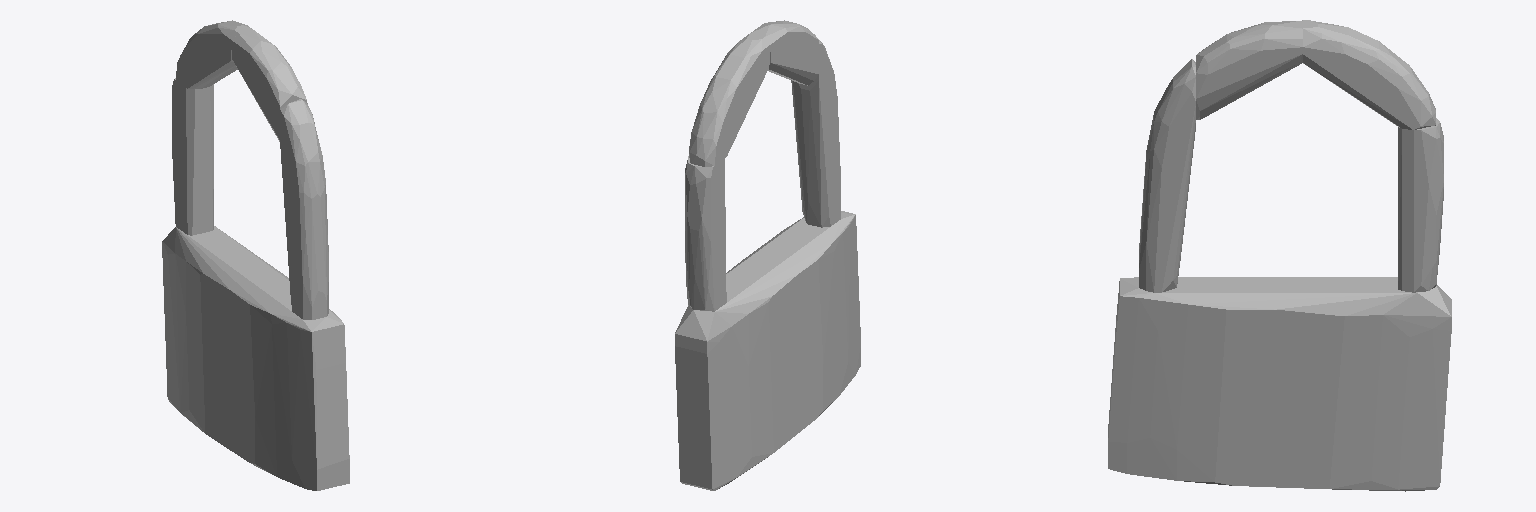
The robot description file, URDF, robot "root":
<robot name="root">
  <link name="link_2b72c65f9f4ab89c9c844474c1ecd7e3_convex_piece_0">
    <inertial>
      <origin rpy="0 0 0" xyz="0 0 0"/>
      <mass value="6.61E-06"/>
      <inertia ixx="9.26E-10" ixy="-1.40E-13" ixz="4.04E-13" iyy="7.47E-11" iyz="2.97E-10" izz="9.35E-10"/>
    </inertial>
    <visual>
      <origin rpy="0 0 0" xyz="0 0 0"/>
      <geometry>
        <mesh filename="2b72c65f9f4ab89c9c844474c1ecd7e3_convex_piece_0.obj" scale="1.0000E+00"/>
      </geometry>
      <material name="">
        <color rgba="7.50E-01 7.50E-01 7.50E-01 1"/>
      </material>
    </visual>
    <collision>
      <origin rpy="0 0 0" xyz="0 0 0"/>
      <geometry>
        <mesh filename="2b72c65f9f4ab89c9c844474c1ecd7e3_convex_piece_0.obj" scale="1.0000E+00"/>
      </geometry>
    </collision>
  </link>
  <link name="link_2b72c65f9f4ab89c9c844474c1ecd7e3_convex_piece_1">
    <inertial>
      <origin rpy="0 0 0" xyz="0 0 0"/>
      <mass value="5.00E-07"/>
      <inertia ixx="-4.62E-12" ixy="-1.12E-12" ixz="8.42E-13" iyy="-1.10E-10" iyz="-4.70E-11" izz="1.08E-10"/>
    </inertial>
    <visual>
      <origin rpy="0 0 0" xyz="0 0 0"/>
      <geometry>
        <mesh filename="2b72c65f9f4ab89c9c844474c1ecd7e3_convex_piece_1.obj" scale="1.0000E+00"/>
      </geometry>
      <material name="">
        <color rgba="7.50E-01 7.50E-01 7.50E-01 1"/>
      </material>
    </visual>
    <collision>
      <origin rpy="0 0 0" xyz="0 0 0"/>
      <geometry>
        <mesh filename="2b72c65f9f4ab89c9c844474c1ecd7e3_convex_piece_1.obj" scale="1.0000E+00"/>
      </geometry>
    </collision>
  </link>
  <joint name="link_2b72c65f9f4ab89c9c844474c1ecd7e3_convex_piece_1_joint" type="fixed">
    <origin rpy="0 0 0" xyz="0 0 0"/>
    <parent link="link_2b72c65f9f4ab89c9c844474c1ecd7e3_convex_piece_0"/>
    <child link="link_2b72c65f9f4ab89c9c844474c1ecd7e3_convex_piece_1"/>
  </joint>
  <link name="link_2b72c65f9f4ab89c9c844474c1ecd7e3_convex_piece_2">
    <inertial>
      <origin rpy="0 0 0" xyz="0 0 0"/>
      <mass value="3.34E-07"/>
      <inertia ixx="1.37E-10" ixy="-2.19E-13" ixz="1.37E-12" iyy="1.28E-10" iyz="-2.27E-11" izz="1.05E-11"/>
    </inertial>
    <visual>
      <origin rpy="0 0 0" xyz="0 0 0"/>
      <geometry>
        <mesh filename="2b72c65f9f4ab89c9c844474c1ecd7e3_convex_piece_2.obj" scale="1.0000E+00"/>
      </geometry>
      <material name="">
        <color rgba="7.50E-01 7.50E-01 7.50E-01 1"/>
      </material>
    </visual>
    <collision>
      <origin rpy="0 0 0" xyz="0 0 0"/>
      <geometry>
        <mesh filename="2b72c65f9f4ab89c9c844474c1ecd7e3_convex_piece_2.obj" scale="1.0000E+00"/>
      </geometry>
    </collision>
  </link>
  <joint name="link_2b72c65f9f4ab89c9c844474c1ecd7e3_convex_piece_2_joint" type="fixed">
    <origin rpy="0 0 0" xyz="0 0 0"/>
    <parent link="link_2b72c65f9f4ab89c9c844474c1ecd7e3_convex_piece_1"/>
    <child link="link_2b72c65f9f4ab89c9c844474c1ecd7e3_convex_piece_2"/>
  </joint>
  <link name="link_2b72c65f9f4ab89c9c844474c1ecd7e3_convex_piece_3">
    <inertial>
      <origin rpy="0 0 0" xyz="0 0 0"/>
      <mass value="4.02E-07"/>
      <inertia ixx="1.69E-11" ixy="1.07E-12" ixz="4.67E-13" iyy="-1.20E-10" iyz="7.84E-11" izz="1.38E-10"/>
    </inertial>
    <visual>
      <origin rpy="0 0 0" xyz="0 0 0"/>
      <geometry>
        <mesh filename="2b72c65f9f4ab89c9c844474c1ecd7e3_convex_piece_3.obj" scale="1.0000E+00"/>
      </geometry>
      <material name="">
        <color rgba="7.50E-01 7.50E-01 7.50E-01 1"/>
      </material>
    </visual>
    <collision>
      <origin rpy="0 0 0" xyz="0 0 0"/>
      <geometry>
        <mesh filename="2b72c65f9f4ab89c9c844474c1ecd7e3_convex_piece_3.obj" scale="1.0000E+00"/>
      </geometry>
    </collision>
  </link>
  <joint name="link_2b72c65f9f4ab89c9c844474c1ecd7e3_convex_piece_3_joint" type="fixed">
    <origin rpy="0 0 0" xyz="0 0 0"/>
    <parent link="link_2b72c65f9f4ab89c9c844474c1ecd7e3_convex_piece_2"/>
    <child link="link_2b72c65f9f4ab89c9c844474c1ecd7e3_convex_piece_3"/>
  </joint>
  <link name="link_2b72c65f9f4ab89c9c844474c1ecd7e3_convex_piece_4">
    <inertial>
      <origin rpy="0 0 0" xyz="0 0 0"/>
      <mass value="3.96E-07"/>
      <inertia ixx="1.79E-10" ixy="7.43E-13" ixz="1.72E-12" iyy="1.20E-10" iyz="1.38E-10" izz="6.03E-11"/>
    </inertial>
    <visual>
      <origin rpy="0 0 0" xyz="0 0 0"/>
      <geometry>
        <mesh filename="2b72c65f9f4ab89c9c844474c1ecd7e3_convex_piece_4.obj" scale="1.0000E+00"/>
      </geometry>
      <material name="">
        <color rgba="7.50E-01 7.50E-01 7.50E-01 1"/>
      </material>
    </visual>
    <collision>
      <origin rpy="0 0 0" xyz="0 0 0"/>
      <geometry>
        <mesh filename="2b72c65f9f4ab89c9c844474c1ecd7e3_convex_piece_4.obj" scale="1.0000E+00"/>
      </geometry>
    </collision>
  </link>
  <joint name="link_2b72c65f9f4ab89c9c844474c1ecd7e3_convex_piece_4_joint" type="fixed">
    <origin rpy="0 0 0" xyz="0 0 0"/>
    <parent link="link_2b72c65f9f4ab89c9c844474c1ecd7e3_convex_piece_3"/>
    <child link="link_2b72c65f9f4ab89c9c844474c1ecd7e3_convex_piece_4"/>
  </joint>
</robot>

--- Render facts (derived) ---
The picture shows the robot from 3 angles, left to right: view 1: azimuth 30°, elevation 25°; view 2: azimuth 150°, elevation 25°; view 3: azimuth 270°, elevation 25°; orthographic projection.
Model root with 5 links and 4 joints (4 fixed), rooted at link_2b72c65f9f4ab89c9c844474c1ecd7e3_convex_piece_0, posed all joints at 0.
Links seen in each view (by area): view 1: link_2b72c65f9f4ab89c9c844474c1ecd7e3_convex_piece_0, link_2b72c65f9f4ab89c9c844474c1ecd7e3_convex_piece_1, link_2b72c65f9f4ab89c9c844474c1ecd7e3_convex_piece_3, link_2b72c65f9f4ab89c9c844474c1ecd7e3_convex_piece_2, link_2b72c65f9f4ab89c9c844474c1ecd7e3_convex_piece_4; view 2: link_2b72c65f9f4ab89c9c844474c1ecd7e3_convex_piece_0, link_2b72c65f9f4ab89c9c844474c1ecd7e3_convex_piece_1, link_2b72c65f9f4ab89c9c844474c1ecd7e3_convex_piece_4, link_2b72c65f9f4ab89c9c844474c1ecd7e3_convex_piece_3, link_2b72c65f9f4ab89c9c844474c1ecd7e3_convex_piece_2; view 3: link_2b72c65f9f4ab89c9c844474c1ecd7e3_convex_piece_0, link_2b72c65f9f4ab89c9c844474c1ecd7e3_convex_piece_1, link_2b72c65f9f4ab89c9c844474c1ecd7e3_convex_piece_4, link_2b72c65f9f4ab89c9c844474c1ecd7e3_convex_piece_3, link_2b72c65f9f4ab89c9c844474c1ecd7e3_convex_piece_2.
Boxes of the visible links, x1,y1,x2,y2 form: link_2b72c65f9f4ab89c9c844474c1ecd7e3_convex_piece_0: [162, 226, 349, 490]; link_2b72c65f9f4ab89c9c844474c1ecd7e3_convex_piece_1: [280, 99, 328, 319]; link_2b72c65f9f4ab89c9c844474c1ecd7e3_convex_piece_3: [172, 78, 213, 235]; link_2b72c65f9f4ab89c9c844474c1ecd7e3_convex_piece_2: [232, 29, 307, 141]; link_2b72c65f9f4ab89c9c844474c1ecd7e3_convex_piece_4: [176, 20, 251, 88]; link_2b72c65f9f4ab89c9c844474c1ecd7e3_convex_piece_0: [675, 211, 860, 490]; link_2b72c65f9f4ab89c9c844474c1ecd7e3_convex_piece_1: [791, 34, 840, 227]; link_2b72c65f9f4ab89c9c844474c1ecd7e3_convex_piece_4: [689, 33, 770, 166]; link_2b72c65f9f4ab89c9c844474c1ecd7e3_convex_piece_3: [685, 156, 726, 311]; link_2b72c65f9f4ab89c9c844474c1ecd7e3_convex_piece_2: [751, 20, 818, 85]; link_2b72c65f9f4ab89c9c844474c1ecd7e3_convex_piece_0: [1108, 277, 1451, 491]; link_2b72c65f9f4ab89c9c844474c1ecd7e3_convex_piece_1: [1139, 59, 1195, 292]; link_2b72c65f9f4ab89c9c844474c1ecd7e3_convex_piece_4: [1303, 20, 1435, 129]; link_2b72c65f9f4ab89c9c844474c1ecd7e3_convex_piece_3: [1398, 118, 1443, 292]; link_2b72c65f9f4ab89c9c844474c1ecd7e3_convex_piece_2: [1196, 20, 1302, 119].
Bounding box of the posed robot: 0.0096 × 0.0456 × 0.0669 m (x, y, z).
5 mesh visuals loaded from 5 distinct referenced files (5 OBJ).